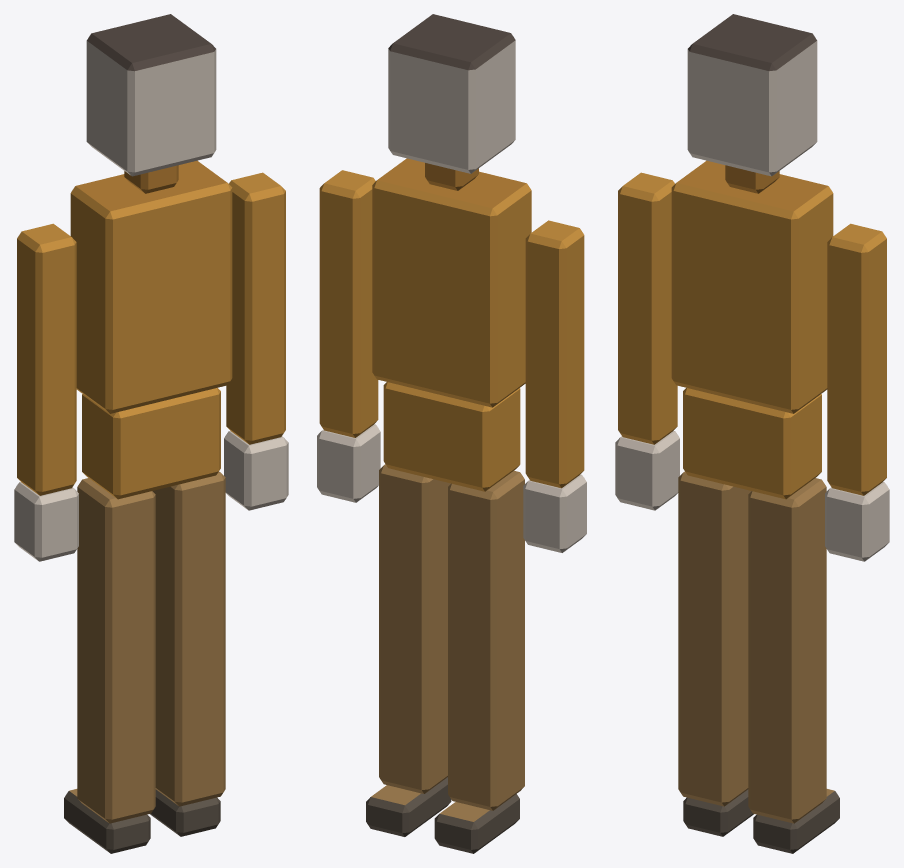
File: enemy_fast.glb
3 views of the same model, side by side, from view 1: azimuth 30°, elevation 25°; view 2: azimuth 150°, elevation 25°; view 3: azimuth 330°, elevation 25° (orthographic).
Visible parts, largest first — view 1: EnemyFast; view 2: EnemyFast; view 3: EnemyFast.
Part boxes in pixels (bbox=[...]): EnemyFast: bbox=[14, 14, 288, 853]; EnemyFast: bbox=[317, 14, 586, 853]; EnemyFast: bbox=[615, 14, 889, 853].
Size of the model in its own units: 0.656 by 1.96 by 0.2509.
